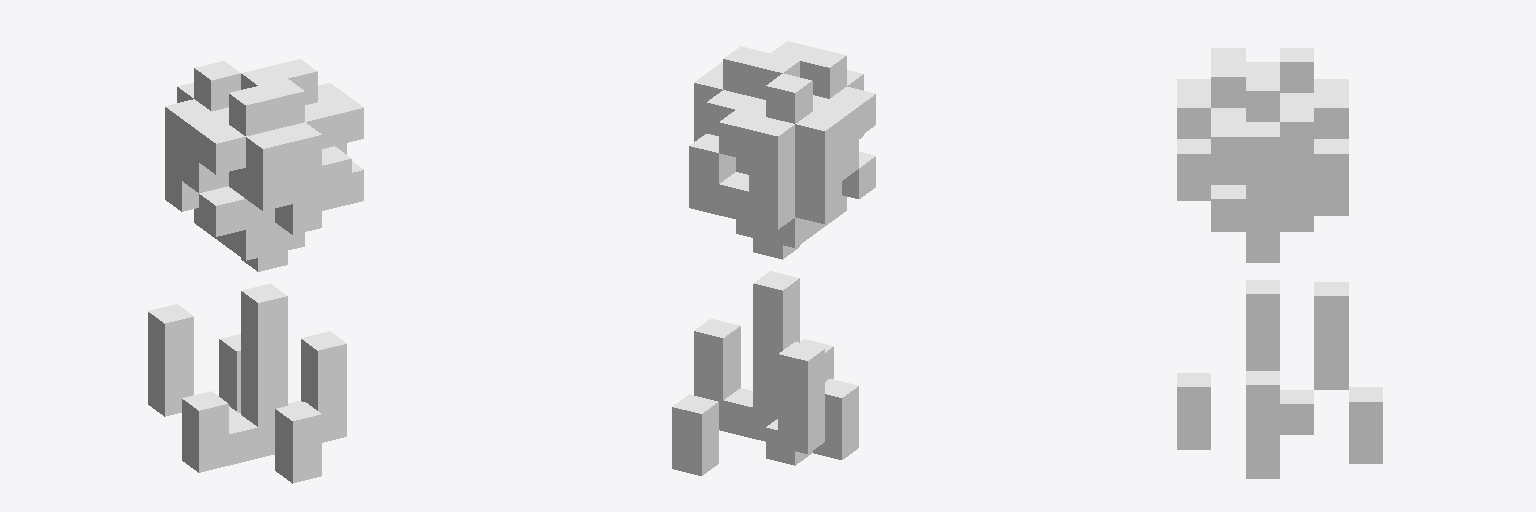
The model's file is BeesAndTrees-2.obj.
3 renders of one model, left to right at view 1: azimuth 30°, elevation 25°; view 2: azimuth 150°, elevation 25°; view 3: azimuth 270°, elevation 25°, orthographic.
Parts seen in each view (by area): view 1: object 1; view 2: object 1; view 3: object 1.
Part boxes in pixels (x1,y1,x2,y2): object 1: (148, 59, 363, 483); object 1: (672, 41, 875, 475); object 1: (1177, 48, 1382, 478).
Size of the model in its own units: 0.5 by 1.2 by 0.6.